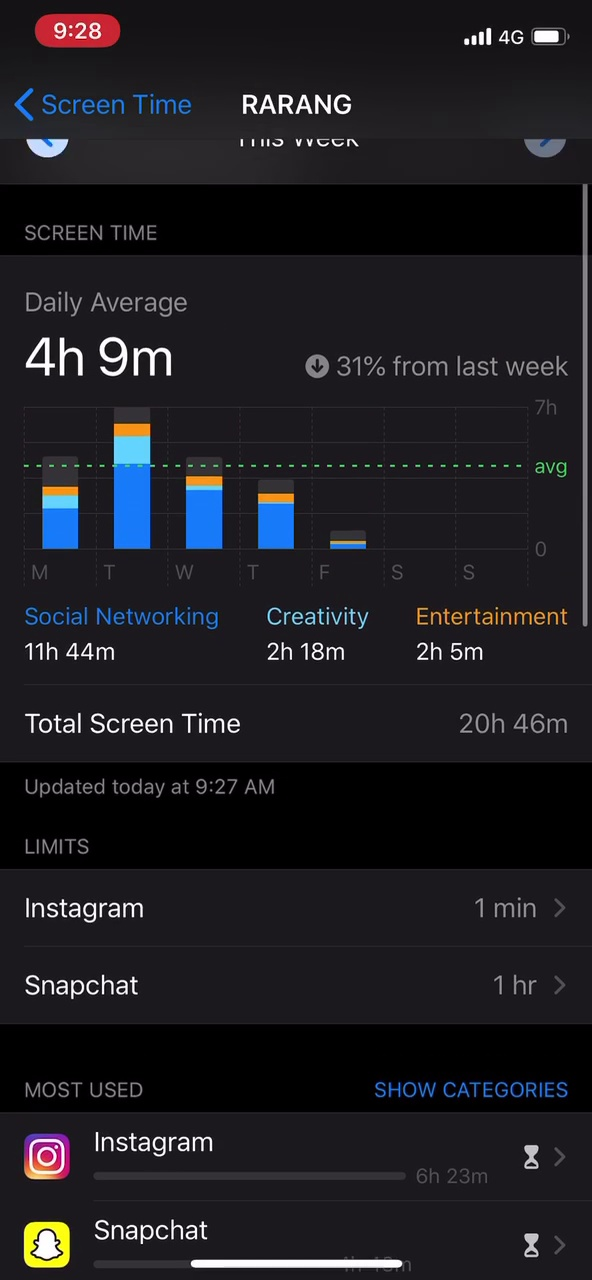use_over: (18, 597, 576, 753)
